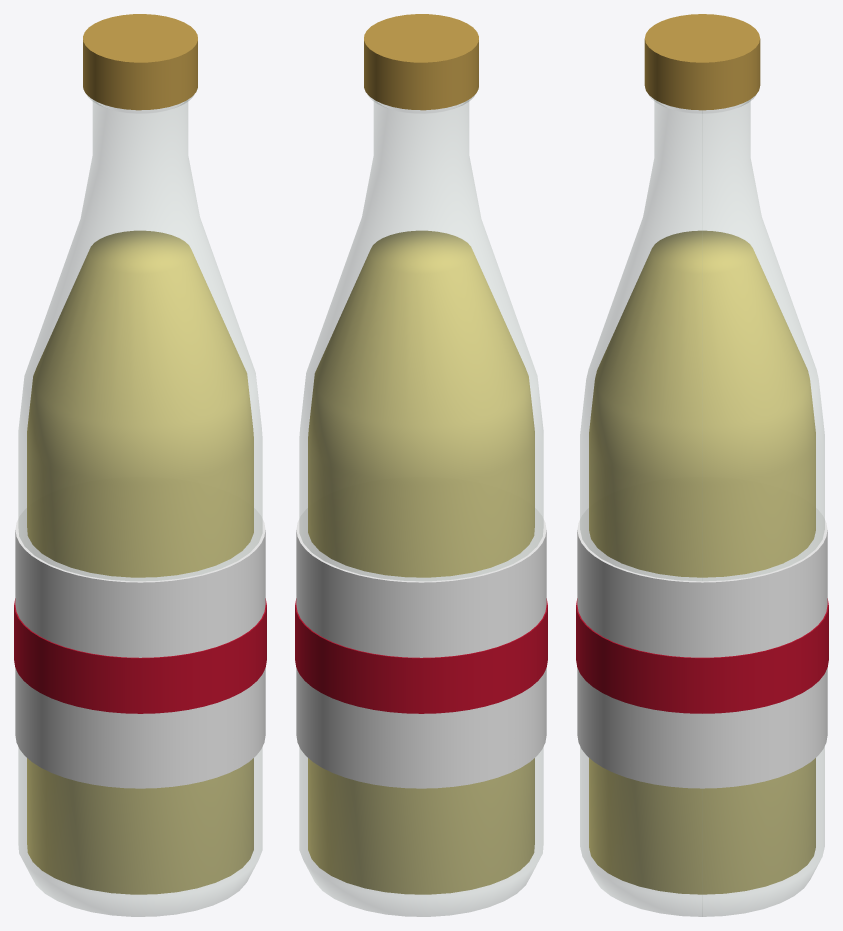
Rendered from bibite-bibite-in-vetro.glb.
3 renders of one model, left to right at view 1: azimuth 30°, elevation 25°; view 2: azimuth 150°, elevation 25°; view 3: azimuth 270°, elevation 25°, orthographic.
Bounding box in the file's own units: 0.0578 × 0.21 × 0.0578.
